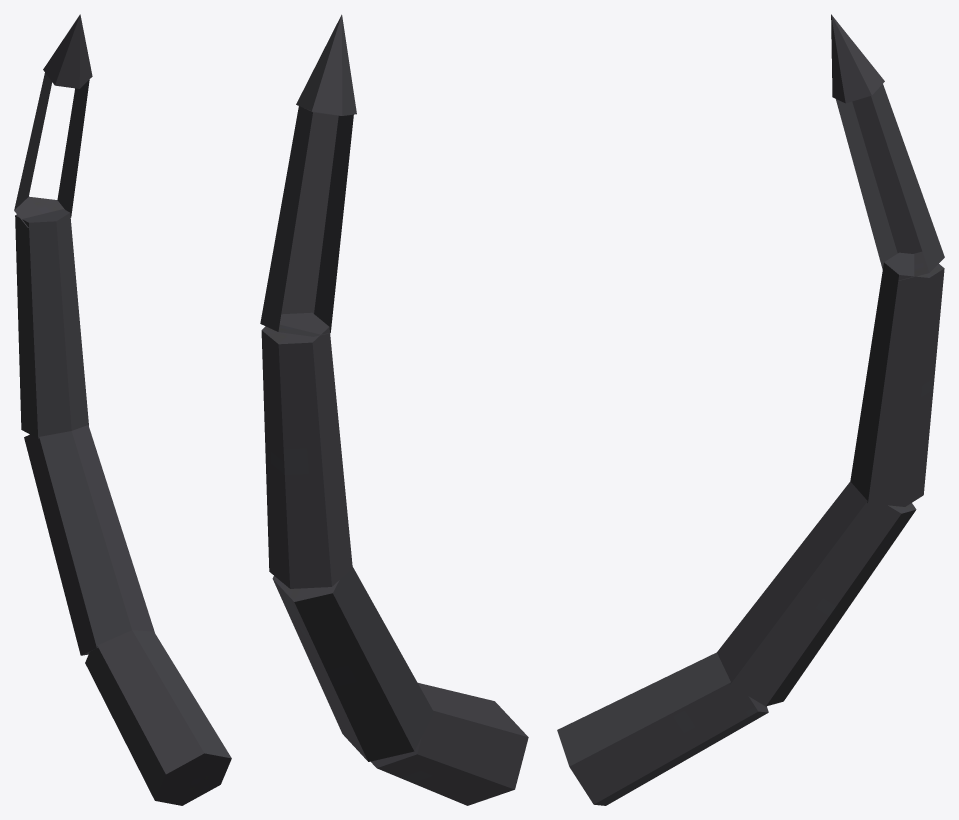
The model's file is acc_tail_cat.glb.
3 views of the same model, side by side, from view 1: azimuth 30°, elevation 25°; view 2: azimuth 150°, elevation 25°; view 3: azimuth 270°, elevation 25° (orthographic). The views are drawn at different scales.
Parts seen in each view (by area): view 1: acc_tail_cat; view 2: acc_tail_cat; view 3: acc_tail_cat.
Part boxes in pixels (x1=…): acc_tail_cat: x1=14, y1=14, x2=231, y2=805; acc_tail_cat: x1=260, y1=14, x2=528, y2=805; acc_tail_cat: x1=557, y1=14, x2=944, y2=805.
Size of the model in its own units: 0.0606 by 0.6302 by 0.2798.
1 material, 1 textured.
